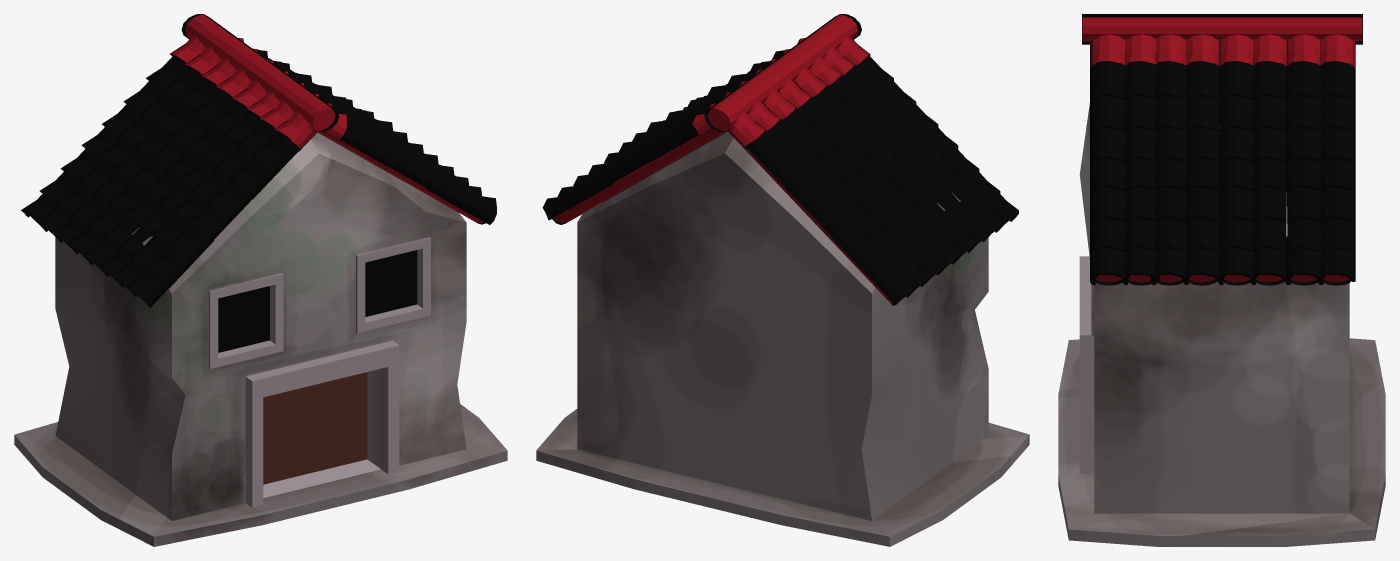
Rendered from houseSmall.fbx.
3 renders of one model, left to right at view 1: azimuth 30°, elevation 25°; view 2: azimuth 150°, elevation 25°; view 3: azimuth 270°, elevation 25°, orthographic. The views are drawn at different scales.
Visible parts, largest first — view 1: Cube.008, Cylinder.190, Cylinder.183; view 2: Cube.008, Cylinder.190, Cylinder.183; view 3: Cube.008, Cylinder.190, Cylinder.183.
Boxes of the visible parts, bbox=[...] form: Cube.008: bbox=[14, 132, 507, 546]; Cylinder.190: bbox=[21, 36, 496, 307]; Cylinder.183: bbox=[181, 14, 339, 131]; Cube.008: bbox=[536, 131, 1029, 546]; Cylinder.190: bbox=[542, 37, 1018, 305]; Cylinder.183: bbox=[704, 14, 861, 131]; Cube.008: bbox=[1058, 103, 1385, 546]; Cylinder.190: bbox=[1090, 34, 1355, 285]; Cylinder.183: bbox=[1082, 14, 1362, 44].
Size of the model in its own units: 3584 by 3546 by 2452.
